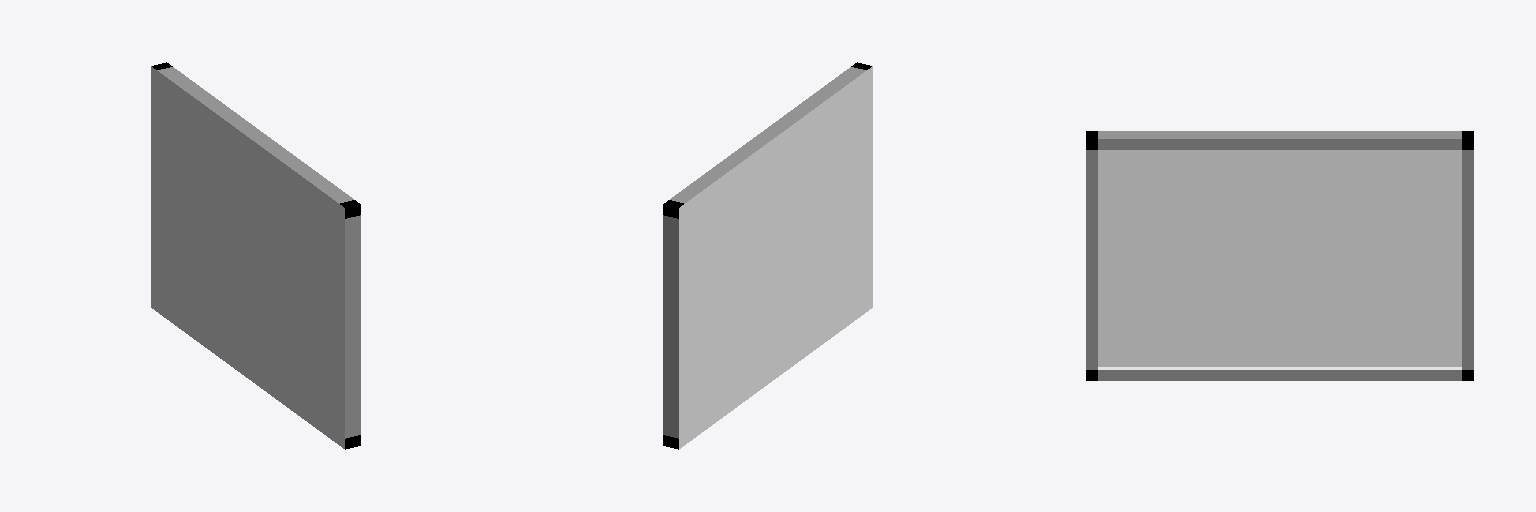
Rendered from Whiteboard.obj.
3 renders of one model, left to right at view 1: azimuth 30°, elevation 25°; view 2: azimuth 150°, elevation 25°; view 3: azimuth 270°, elevation 25°, orthographic.
Parts seen in each view (by area): view 1: Cube; view 2: Cube; view 3: Cube.
Part boxes in pixels (left/top/right/bottom): Cube: left=151, top=62, right=360, bottom=449; Cube: left=663, top=62, right=872, bottom=449; Cube: left=1086, top=131, right=1473, bottom=380.
Size of the model in its own units: 0.15 by 2.2 by 3.2.